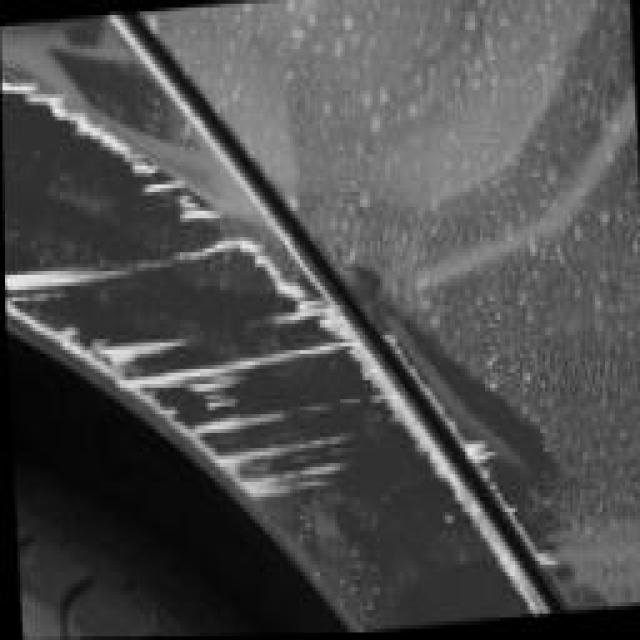Bumper: (0, 15, 560, 632)
